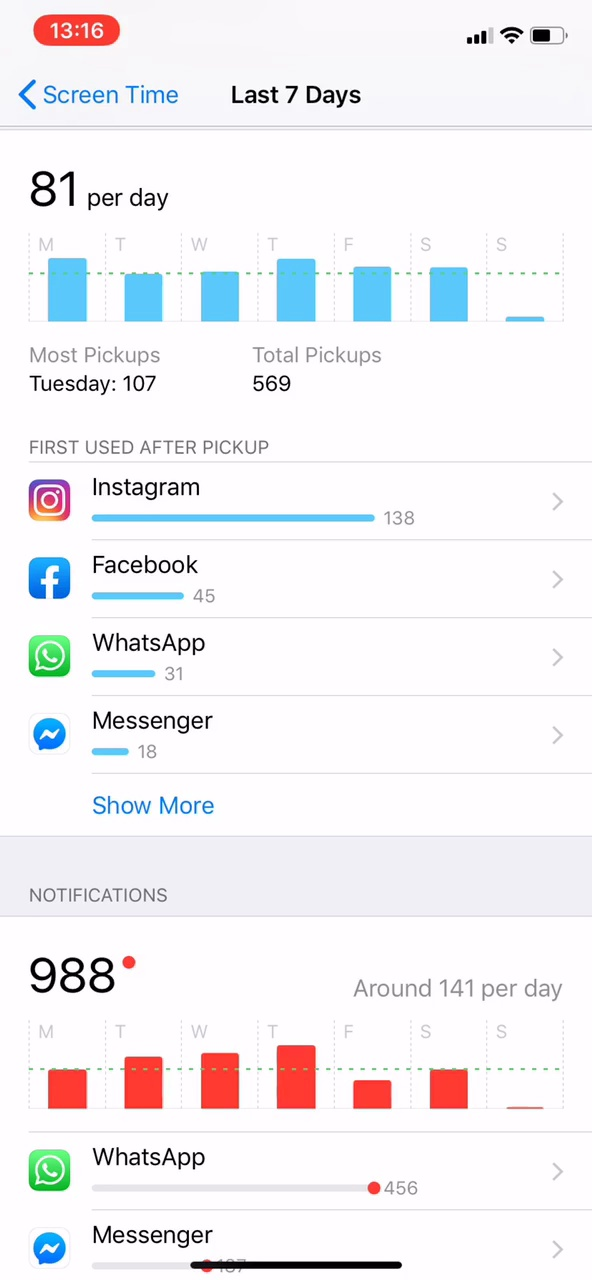not_app: (20, 1130, 453, 1208)
not_over: (18, 835, 234, 1008)
pick_app: (26, 461, 450, 536), (20, 553, 272, 614), (18, 625, 245, 691), (14, 707, 253, 763)
pick_over: (17, 338, 436, 410)
week: (204, 79, 382, 109)
